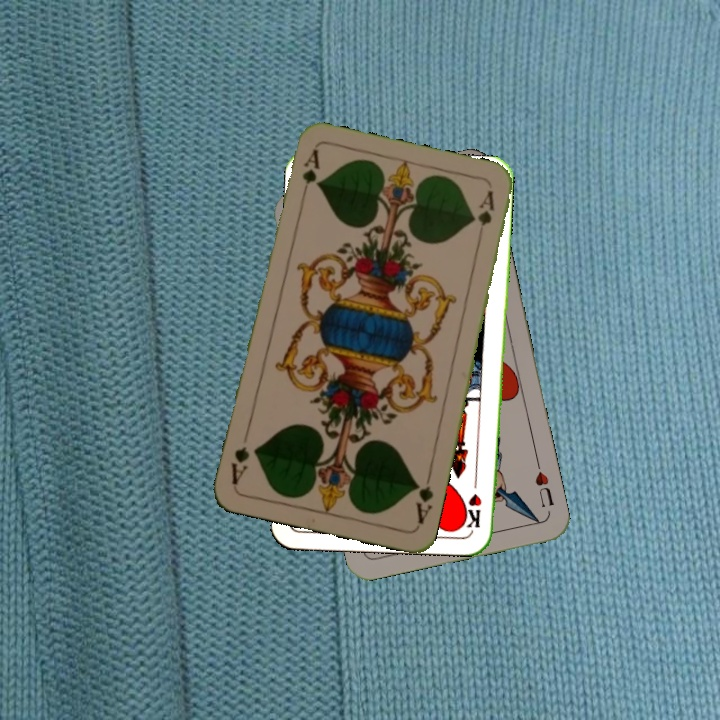GA: (410, 469, 436, 527), (296, 146, 322, 204)
HK: (464, 471, 484, 530)
HU: (531, 456, 556, 511)
